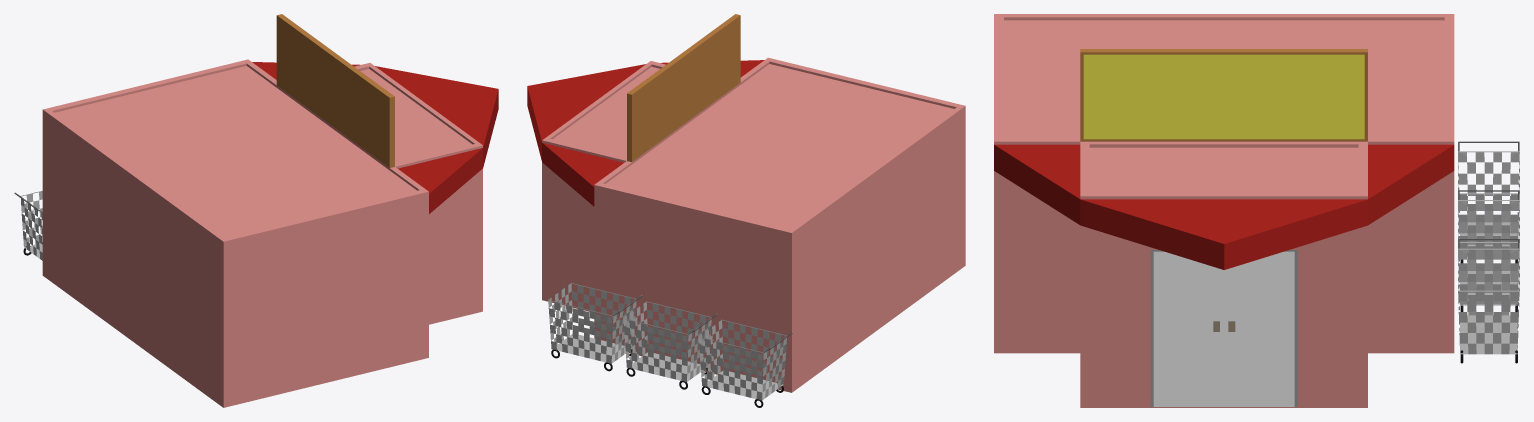
Rendered from Store.gltf.
3 views of the same model, side by side, from view 1: azimuth 30°, elevation 25°; view 2: azimuth 150°, elevation 25°; view 3: azimuth 270°, elevation 25° (orthographic). The views are drawn at different scales.
Visible parts, largest first — view 1: Building, Sign Border, Roof part, Kart.002; view 2: Building, Sign Border, Roof part, Kart.002, Kart.001, Kart; view 3: Building, Sign, Roof part, Door, Kart, Kart.001, Kart.002, Sign Border, Door Frame.
Boxes of the visible parts, x1,y1,x2,y2 form: Building: (42,59,482,407); Sign Border: (276,14,394,167); Roof part: (252,62,498,213); Kart.002: (21,191,42,260); Building: (542,57,965,392); Sign Border: (627,14,740,161); Roof part: (527,60,764,206); Kart.002: (698,319,792,400); Kart.001: (623,301,717,381); Kart: (548,283,641,363); Building: (994,14,1454,407); Sign: (1083,54,1364,139); Roof part: (994,144,1454,269); Door: (1153,251,1294,406); Kart: (1458,248,1519,354); Kart.001: (1458,200,1519,305); Kart.002: (1458,141,1519,256); Sign Border: (1080,49,1367,141); Door Frame: (1150,250,1297,406).
Bounding box in the file's own units: 18.82 × 11.54 × 18.28.
